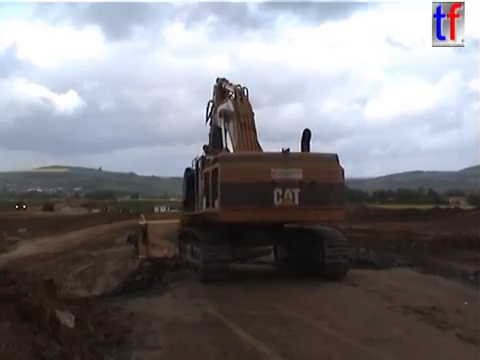excavator: (170, 73, 358, 284)
truck: (124, 211, 273, 290), (39, 199, 57, 214), (12, 197, 28, 213)
